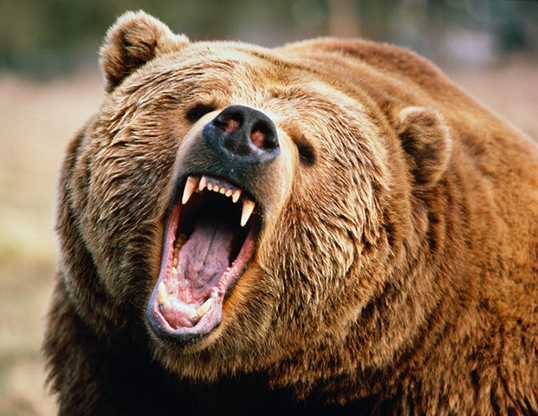bear: (51, 6, 455, 388)
